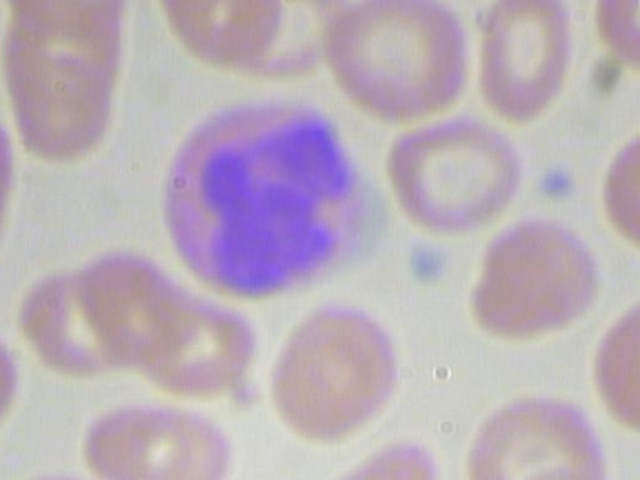Platelets: (391, 239, 457, 297), (537, 165, 575, 204)
RBC: (264, 295, 410, 452), (317, 0, 475, 126), (466, 205, 604, 349), (379, 115, 530, 238), (73, 388, 238, 480), (472, 0, 577, 122), (581, 289, 640, 441), (296, 431, 442, 480), (590, 126, 640, 260), (594, 0, 640, 81), (0, 99, 20, 273)
WBC: (140, 88, 378, 302)
